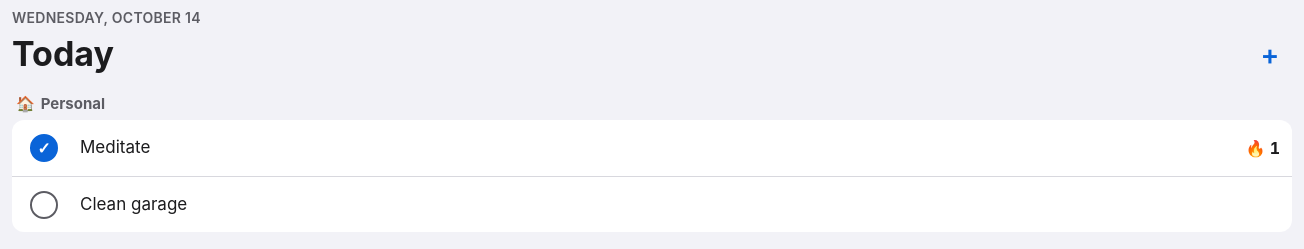
to-dos on Today › leaves habit streaks and weekly counts alone
The width and height of the screenshot is (1304, 249).
Click the checkbox named "Clean garage" at (44, 205), box x1=20 y1=181 x2=68 y2=229
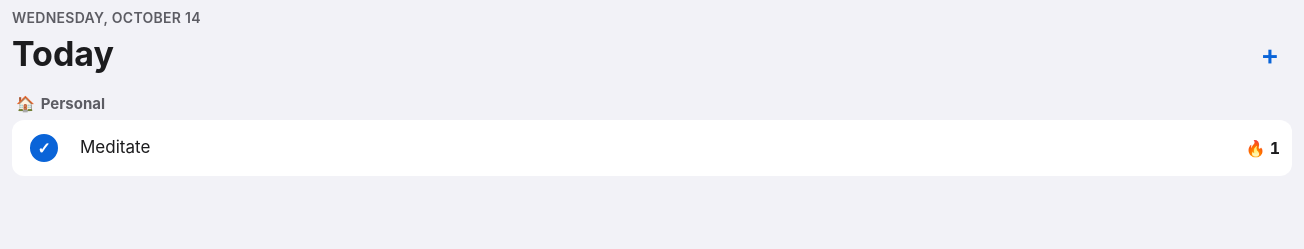
Expected: the picture named "1 day streak" is shown, x1=1245 y1=137 x2=1280 y2=159
Expected: the button "Clean garage" is gone
